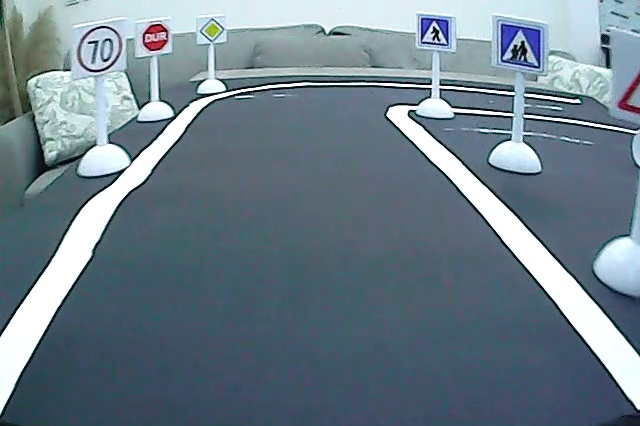pedestrian crossing: (419, 14, 453, 49)
school crossing: (495, 19, 545, 72)
speed limit 70: (76, 22, 124, 74)
stop sign: (141, 21, 172, 54)
